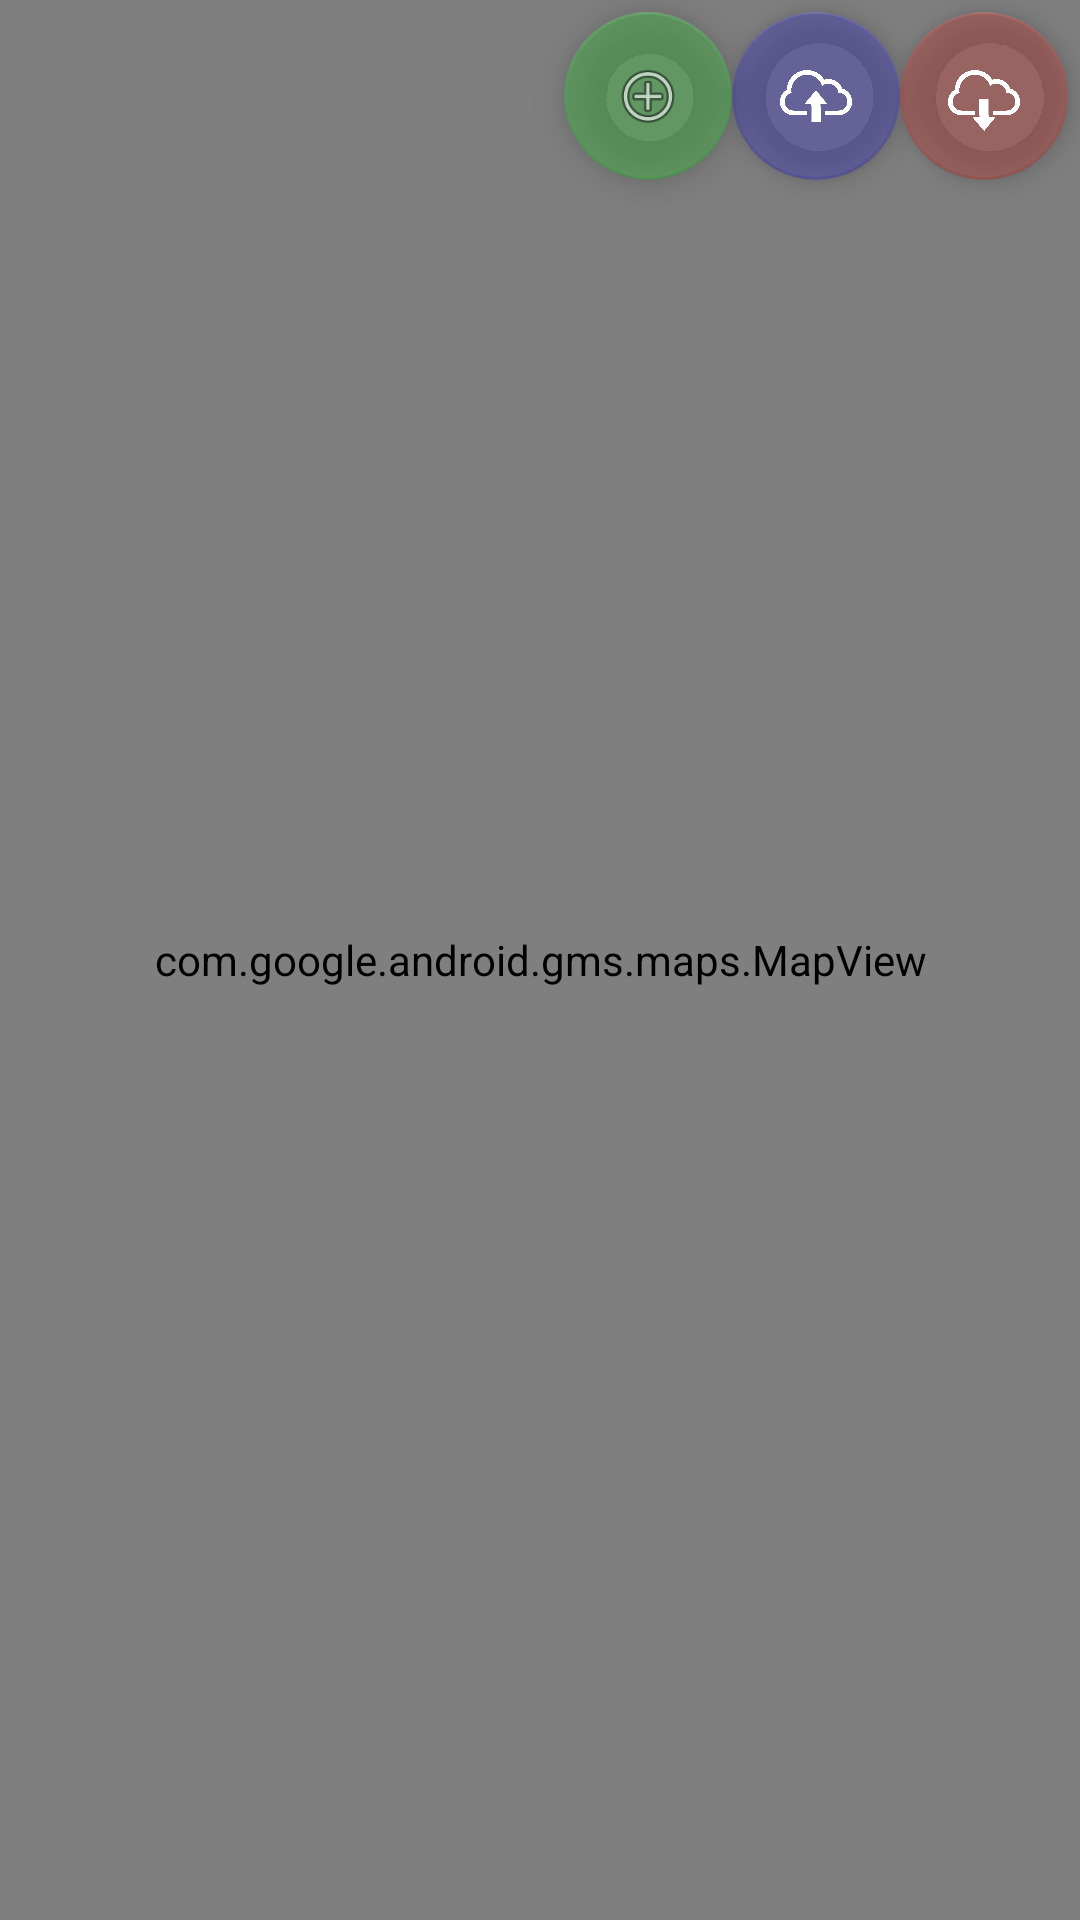

Icons on this 1080×1920 Android screen, each with the point to tap as (x,y):
add: (648,96)
download: (984,96)
upload: (816,96)
